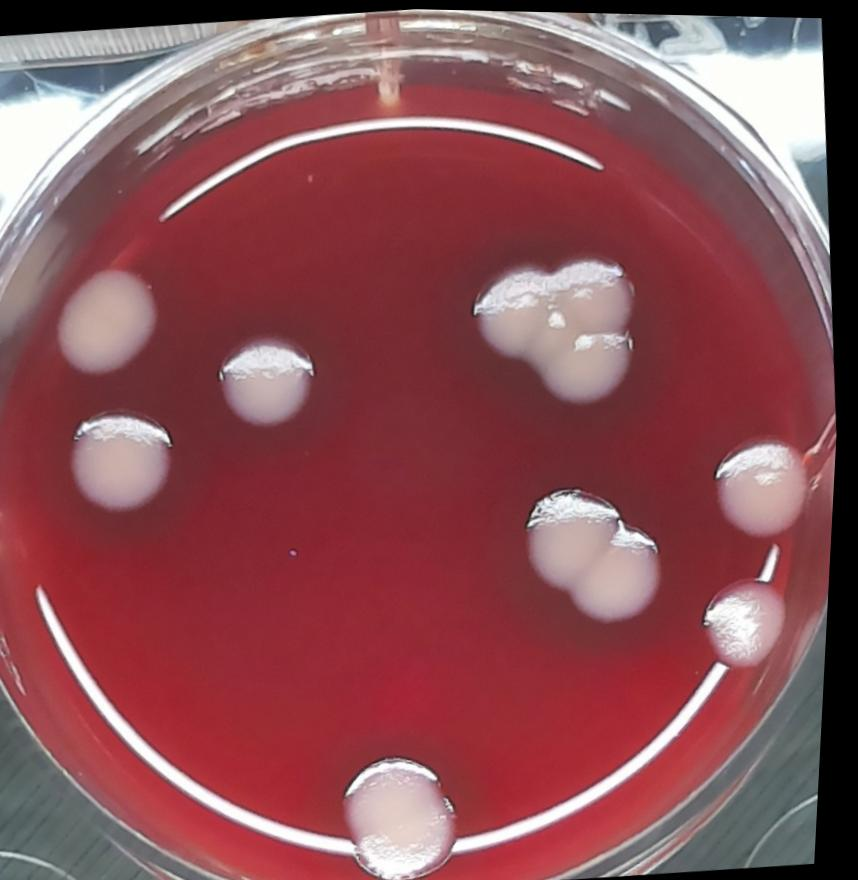bcereus: (458, 233, 672, 423), (502, 456, 692, 638), (198, 304, 348, 459), (332, 730, 487, 880), (38, 245, 186, 394), (51, 387, 201, 534), (697, 419, 828, 551), (689, 559, 813, 675)
